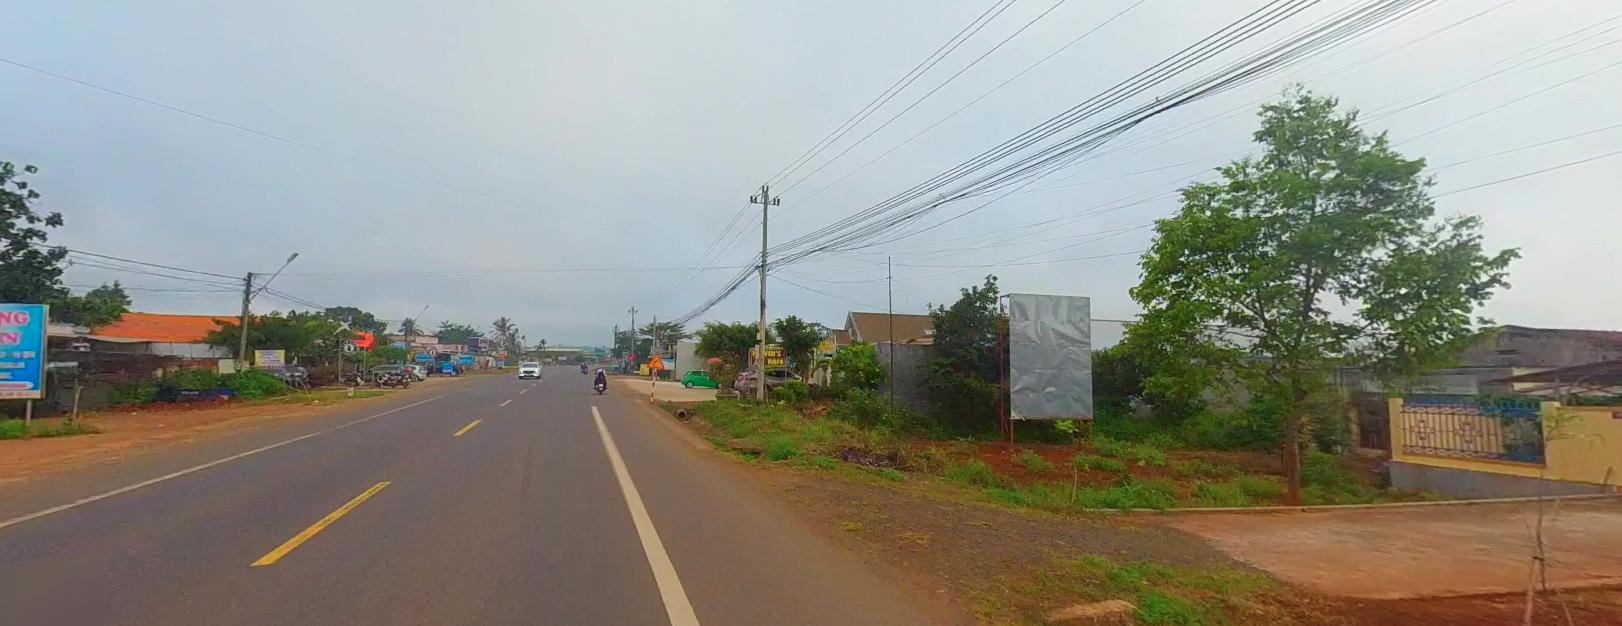Nguy hiem: (646, 350, 665, 368), (646, 351, 664, 369), (646, 352, 664, 368)
